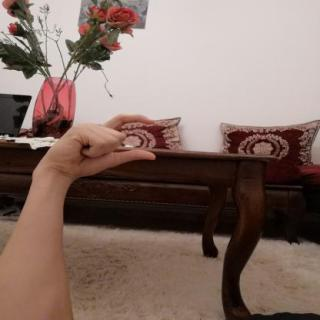DELL: (36, 106, 167, 186)
